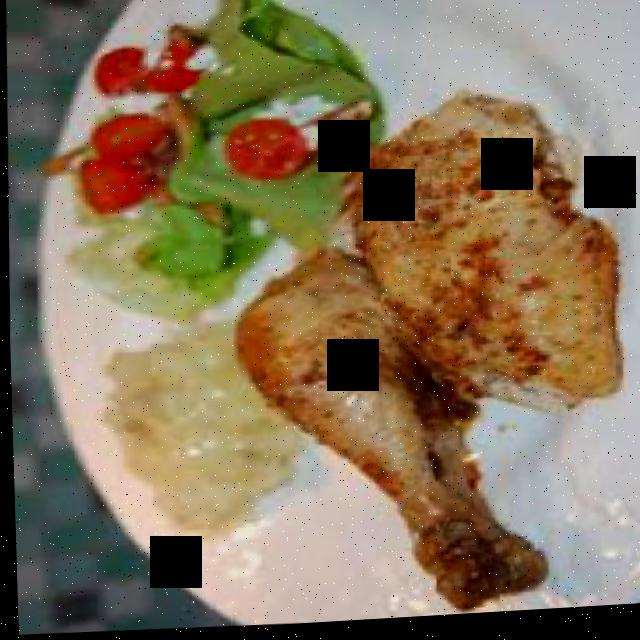Frango: (217, 96, 627, 630)
